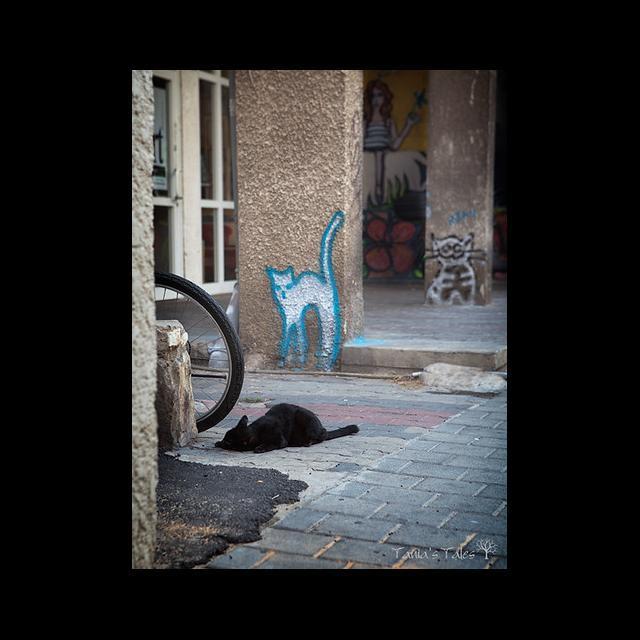animals: (210, 402, 360, 454)
